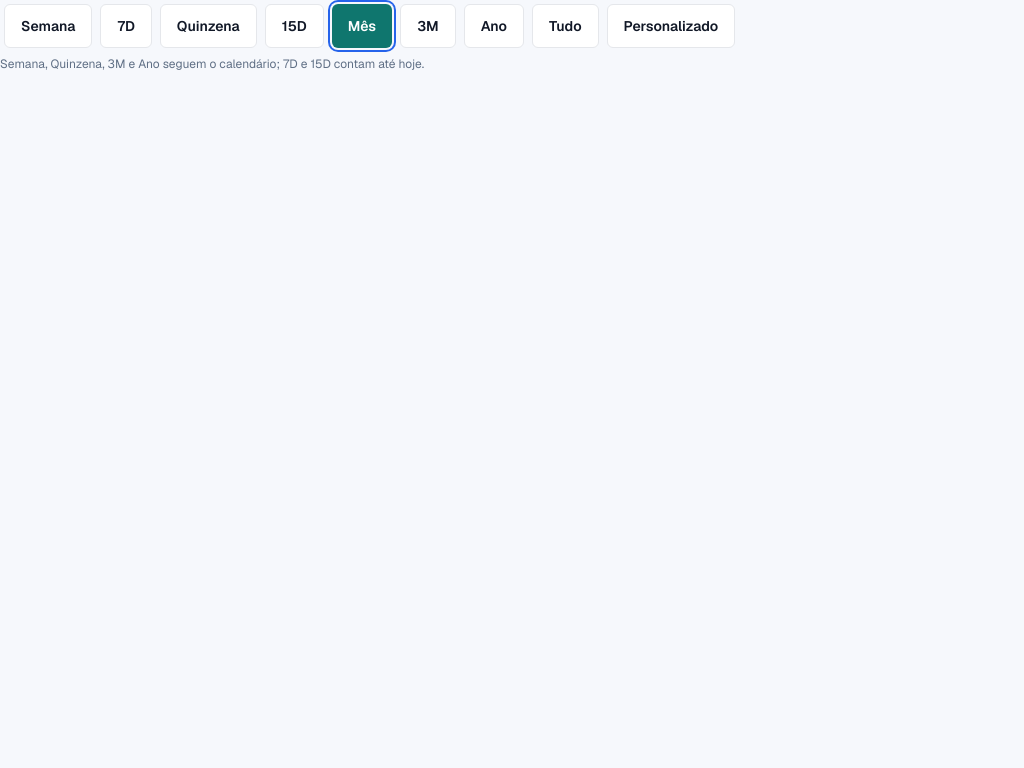
Test case: FinancialPeriodSelector › keeps invalid custom dates in the dialog: Informe as datas inicial e final.
Click the button with aria-label "Escolher período personalizado". click: (671, 26)
box: [607,4,735,48]
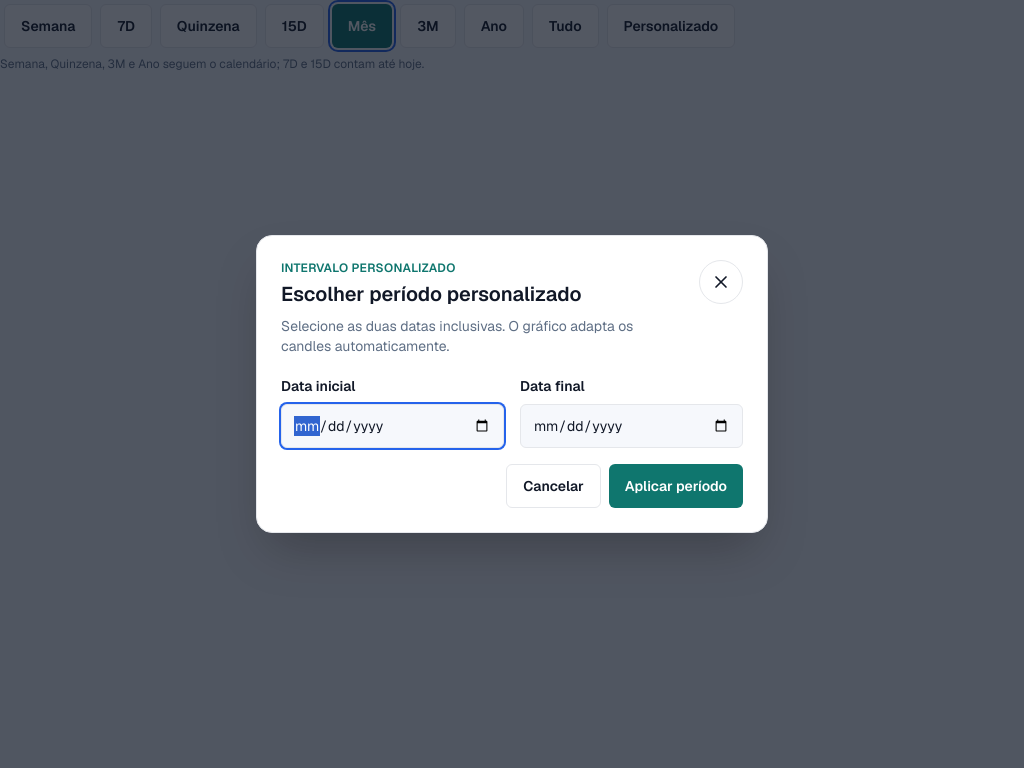
Submit the form "Aplicar período", box [281,376,743,508]
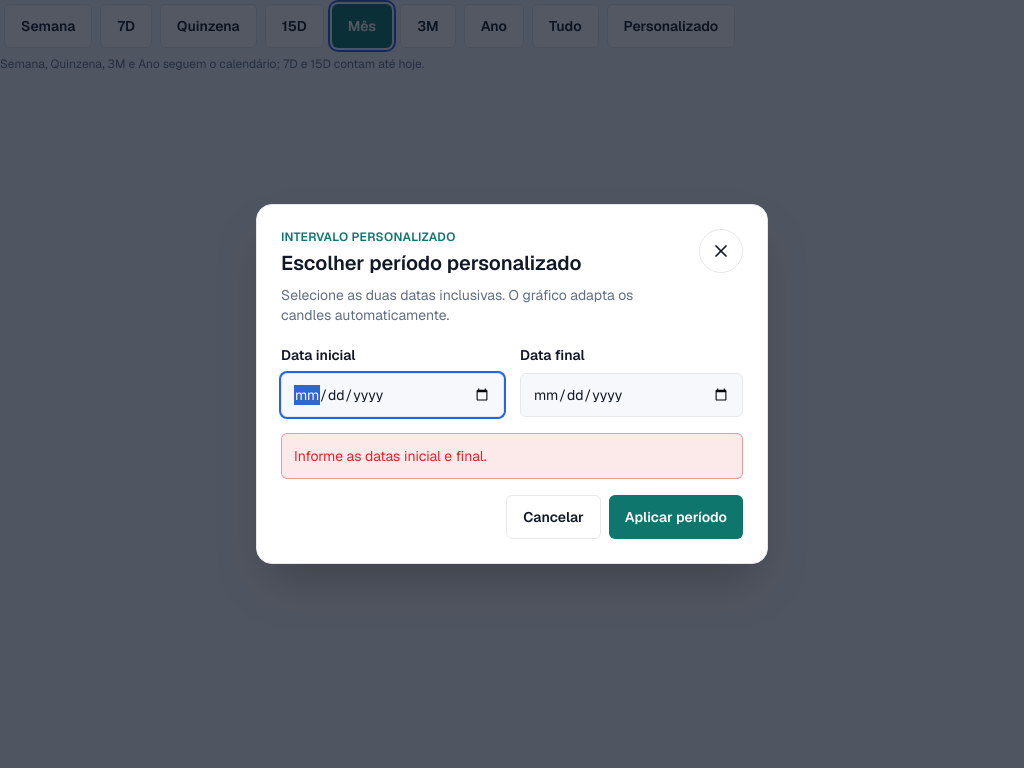
Expected: the dialog is shown, [256,204,768,564]
Expected: the message reads "Informe as datas inicial e final.", [294,447,486,465]
